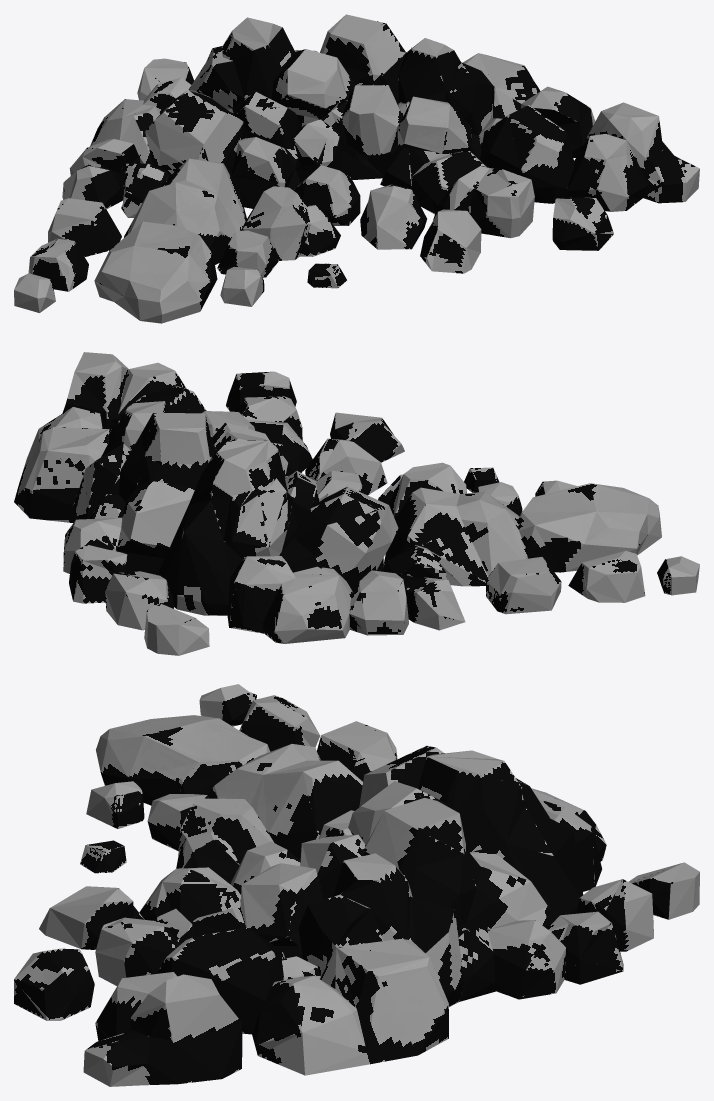
3 renders of one model, top to bottom at view 1: azimuth 30°, elevation 25°; view 2: azimuth 150°, elevation 25°; view 3: azimuth 270°, elevation 25°, orthographic. The views are drawn at different scales.
Visible parts, largest first — view 1: OBJ0d6; view 2: OBJ0d6; view 3: OBJ0d6.
Part boxes in pixels (<box>): OBJ0d6: <box>14,14,699,323</box>; OBJ0d6: <box>14,352,699,655</box>; OBJ0d6: <box>14,684,699,1086</box>.
Bounding box in the file's own units: 0.5231 × 0.0979 × 0.3982.
Materials: 1 (1 with a texture image).
